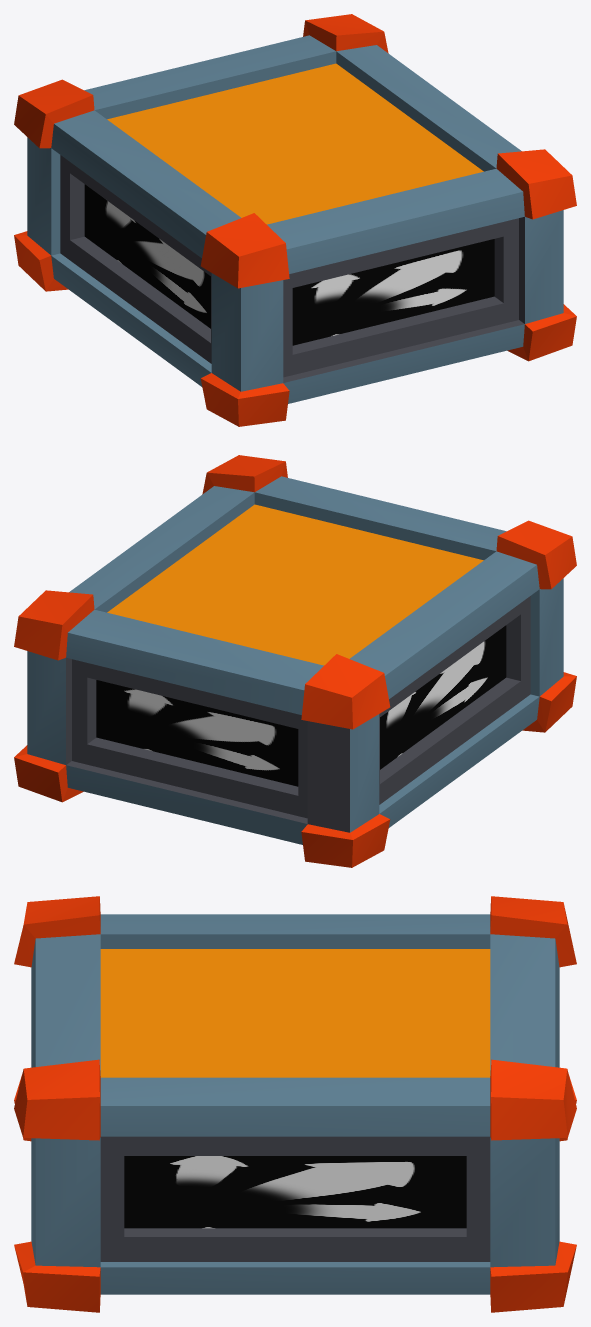
File: 3_direction.obj
3 renders of one model, top to bottom at view 1: azimuth 30°, elevation 25°; view 2: azimuth 150°, elevation 25°; view 3: azimuth 270°, elevation 25°, orthographic. The views are drawn at different scales.
Visible parts, largest first — view 1: Box001, Object003, Object004, Object001, Object002; view 2: Box001, Object003, Object004, Object001, Object002; view 3: Box001, Object003, Object001, Object002, Object004.
Boxes of the visible parts, x1,y1,x2,y2 form: Box001: (27,35,563,403); Object003: (107,63,483,224); Object004: (60,155,524,382); Object001: (14,14,576,426); Object002: (84,184,494,345); Box001: (27,476,563,844); Object003: (107,504,483,665); Object004: (66,596,530,832); Object001: (14,455,576,867); Object002: (96,625,506,786); Box001: (31,914,559,1294); Object003: (100,949,490,1077); Object001: (14,896,576,1312); Object002: (124,1156,466,1228); Object004: (100,1136,490,1261).
Size of the model in its own units: 84.92 by 44.52 by 97.02.
Materials: 5 (1 with a texture image).
